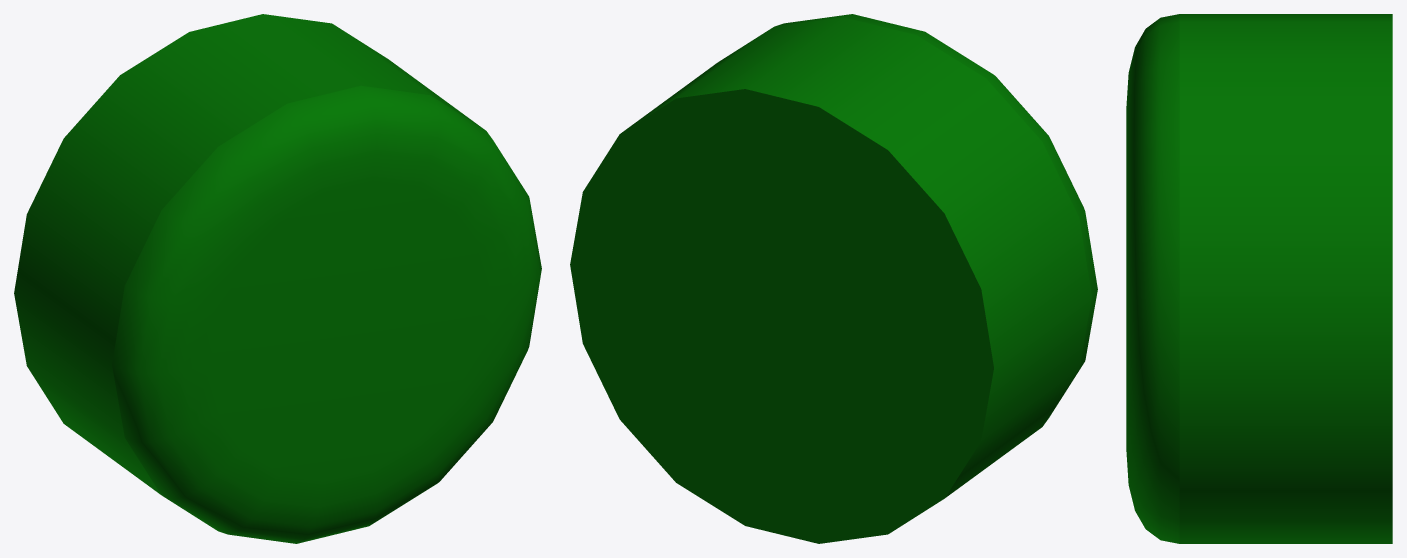
The model's file is Magnet.FBX.
3 views of the same model, side by side, from view 1: azimuth 30°, elevation 25°; view 2: azimuth 150°, elevation 25°; view 3: azimuth 270°, elevation 25° (orthographic). The views are drawn at different scales.
Parts seen in each view (by area): view 1: Magnet; view 2: Magnet; view 3: Magnet.
Part boxes in pixels (x1,y1,x2,y2): Magnet: [14, 14, 541, 543]; Magnet: [570, 14, 1097, 543]; Magnet: [1126, 14, 1392, 543].
Size of the model in its own units: 0.75 by 0.7386 by 0.375.
